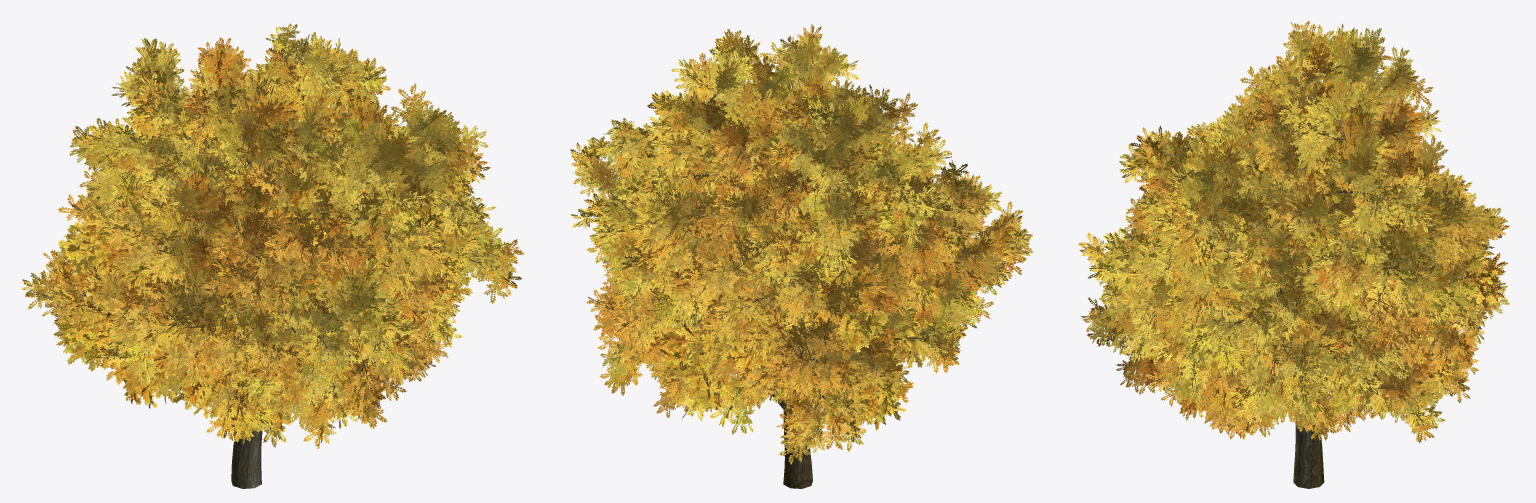
The model's file is trees.glb.
3 renders of one model, left to right at view 1: azimuth 30°, elevation 25°; view 2: azimuth 150°, elevation 25°; view 3: azimuth 270°, elevation 25°, orthographic. The views are drawn at different scales.
Parts seen in each view (by area): view 1: TREE_ASH_A_leaves, TREE_FAR_leaves, TREE_ASH_B_leaves, TREE_OAK_A_leaves, TREE_ASH_A_bark; view 2: TREE_ASH_A_leaves, TREE_FAR_leaves, TREE_ASH_B_leaves, TREE_OAK_A_leaves, TREE_ASH_A_bark; view 3: TREE_ASH_A_leaves, TREE_FAR_leaves, TREE_ASH_B_leaves, TREE_ASH_A_bark, TREE_OAK_A_leaves.
Boxes of the visible parts, x1,y1,x2,y2 form: TREE_ASH_A_leaves: [69, 23, 524, 448]; TREE_FAR_leaves: [21, 49, 482, 440]; TREE_ASH_B_leaves: [73, 37, 456, 428]; TREE_OAK_A_leaves: [52, 92, 418, 443]; TREE_ASH_A_bark: [128, 53, 481, 488]; TREE_ASH_A_leaves: [570, 24, 1006, 434]; TREE_FAR_leaves: [615, 67, 1033, 464]; TREE_ASH_B_leaves: [586, 114, 982, 418]; TREE_OAK_A_leaves: [638, 100, 954, 430]; TREE_ASH_A_bark: [604, 74, 929, 488]; TREE_ASH_A_leaves: [1078, 20, 1490, 443]; TREE_FAR_leaves: [1101, 46, 1509, 363]; TREE_ASH_B_leaves: [1116, 95, 1480, 441]; TREE_ASH_A_bark: [1161, 71, 1402, 488]; TREE_OAK_A_leaves: [1129, 135, 1498, 386].
Size of the model in its own units: 13.03 by 13 by 12.32.
Materials: 6 (6 with a texture image).
